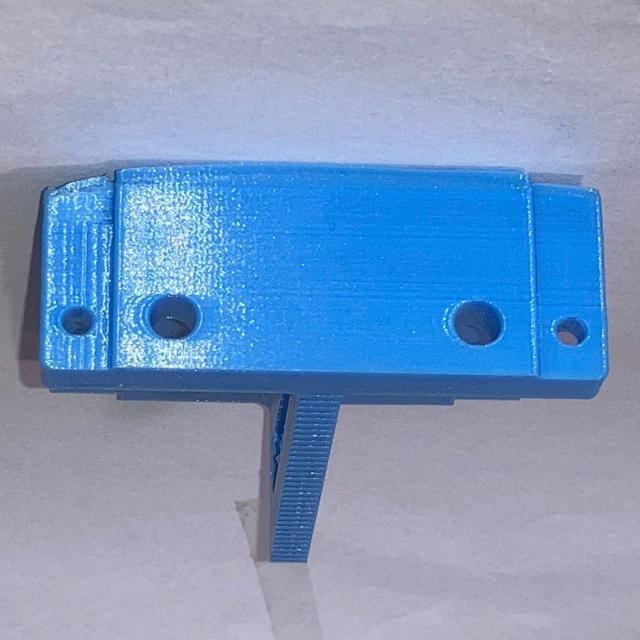Warping: (41, 167, 115, 201)
